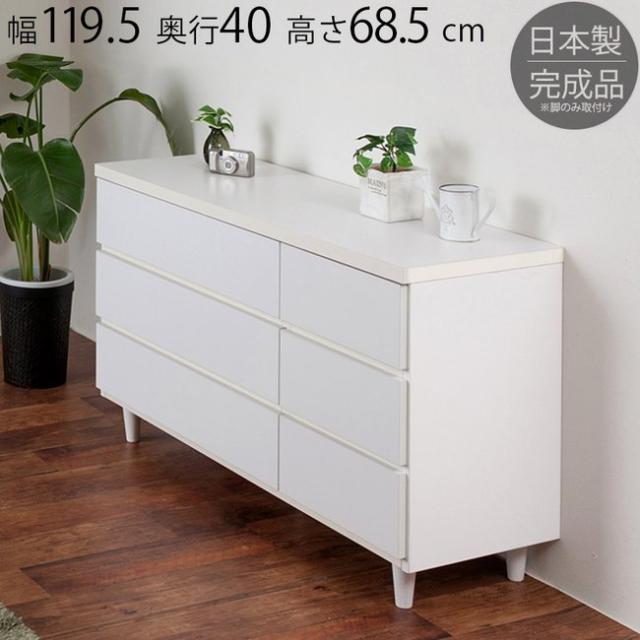white desk: (77, 133, 577, 610)
